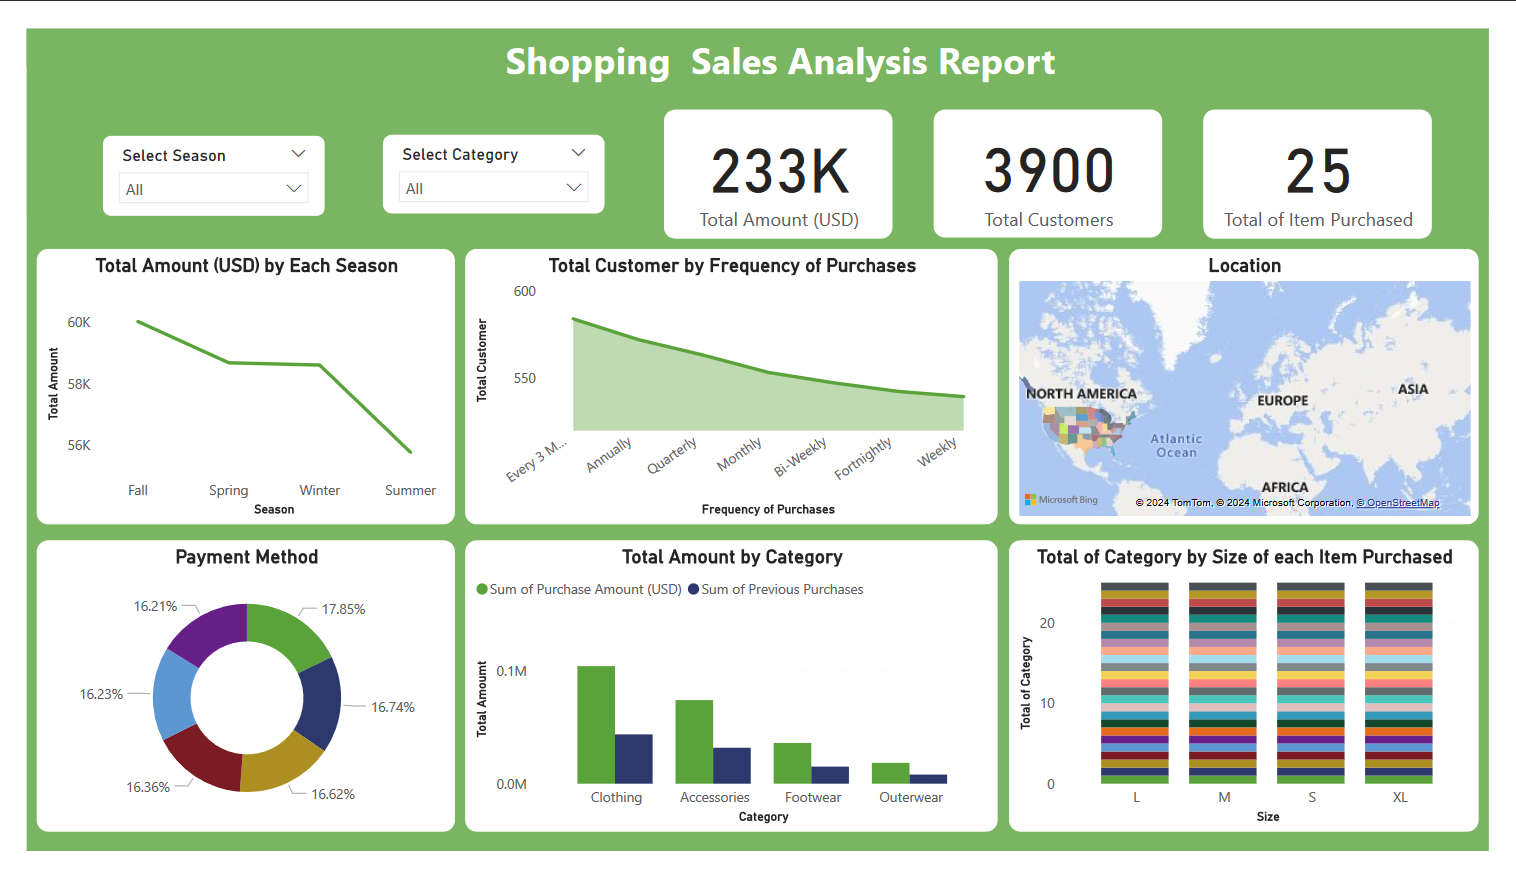

This screenshot's page, from the dashboard's own definition file:
{"tool":"powerbi","page":{"name":"Page 2","canvas":[1280,720],"ordinal":0},"visuals":[{"type":"card","fields":{"Values":["Sum(shopping_trends.Purchase Amount (USD))"]},"box":[558.1,71,200.4,112.9],"z":0},{"type":"card","fields":{"Values":["Count(shopping_trends.Item Purchased)"]},"box":[1029.9,71,200.4,112.9],"z":1000},{"type":"card","fields":{"Values":["CountNonNull(shopping_trends.Customer ID)"]},"box":[794,71,200.4,111.6],"z":2000},{"type":"clusteredColumnChart","title":"Total Amount  by Category","fields":{"Category":["shopping_trends.Category"],"Y":["Sum(shopping_trends.Purchase Amount (USD))","Sum(shopping_trends.Previous Purchases)"]},"box":[384.3,447.7,465.5,254.9],"z":3000},{"type":"lineChart","title":"Total Amount (USD) by Each Season","fields":{"Category":["shopping_trends.Season"],"Y":["Sum(shopping_trends.Purchase Amount (USD))"]},"box":[8.9,192.8,366.5,241],"z":4000},{"type":"donutChart","title":"Payment Method","fields":{"Y":["CountNonNull(shopping_trends.Payment Method)"],"Category":["shopping_trends.Payment Method"]},"box":[8.9,447.7,366.5,254.9],"z":5000},{"type":"stackedAreaChart","fields":{"Category":["shopping_trends.Frequency of Purchases"],"Y":["CountNonNull(shopping_trends.Customer ID)"]},"box":[384.3,192.8,465.5,241],"z":6000},{"type":"columnChart","title":"Total of Category by Size of each Item Purchased","fields":{"Category":["shopping_trends.Size"],"Y":["Count(shopping_trends.Category)"],"Series":["shopping_trends.Item Purchased"]},"box":[859.9,447.7,410.9,254.9],"z":7000},{"type":"filledMap","title":"Location ","fields":{"Series":["shopping_trends.Location"],"Category":["shopping_trends.Location"]},"box":[859.9,192.8,410.9,241],"z":8000},{"type":"slicer","fields":{"Values":["shopping_trends.Category"]},"box":[312,92.6,194.1,69.8],"z":9000},{"type":"textbox","box":[0,0,1279.7,59.6],"z":10000},{"type":"slicer","fields":{"Values":["shopping_trends.Season"]},"box":[67.2,93.9,194.1,69.8],"z":11000}]}

Visuals, with their boxes in screenshot pixels (x1, y1, x2, y2), scaled from the page's 1280x720 canvas onto the 1516x874 screenshot:
card - Sum(shopping_trends.Purchase Amount (USD)): x1=661 y1=86 x2=898 y2=223
card - Count(shopping_trends.Item Purchased): x1=1220 y1=86 x2=1457 y2=223
card - CountNonNull(shopping_trends.Customer ID): x1=940 y1=86 x2=1178 y2=222
"Total Amount  by Category" clusteredColumnChart: x1=455 y1=543 x2=1006 y2=853
"Total Amount (USD) by Each Season" lineChart: x1=11 y1=234 x2=445 y2=527
"Payment Method" donutChart: x1=11 y1=543 x2=445 y2=853
stackedAreaChart - shopping_trends.Frequency of Purchases x CountNonNull(shopping_trends.Customer ID): x1=455 y1=234 x2=1006 y2=527
"Total of Category by Size of each Item Purchased" columnChart: x1=1018 y1=543 x2=1505 y2=853
"Location " filledMap: x1=1018 y1=234 x2=1505 y2=527
slicer - shopping_trends.Category: x1=370 y1=112 x2=599 y2=197
textbox: x1=0 y1=0 x2=1515 y2=72
slicer - shopping_trends.Season: x1=80 y1=114 x2=309 y2=199
